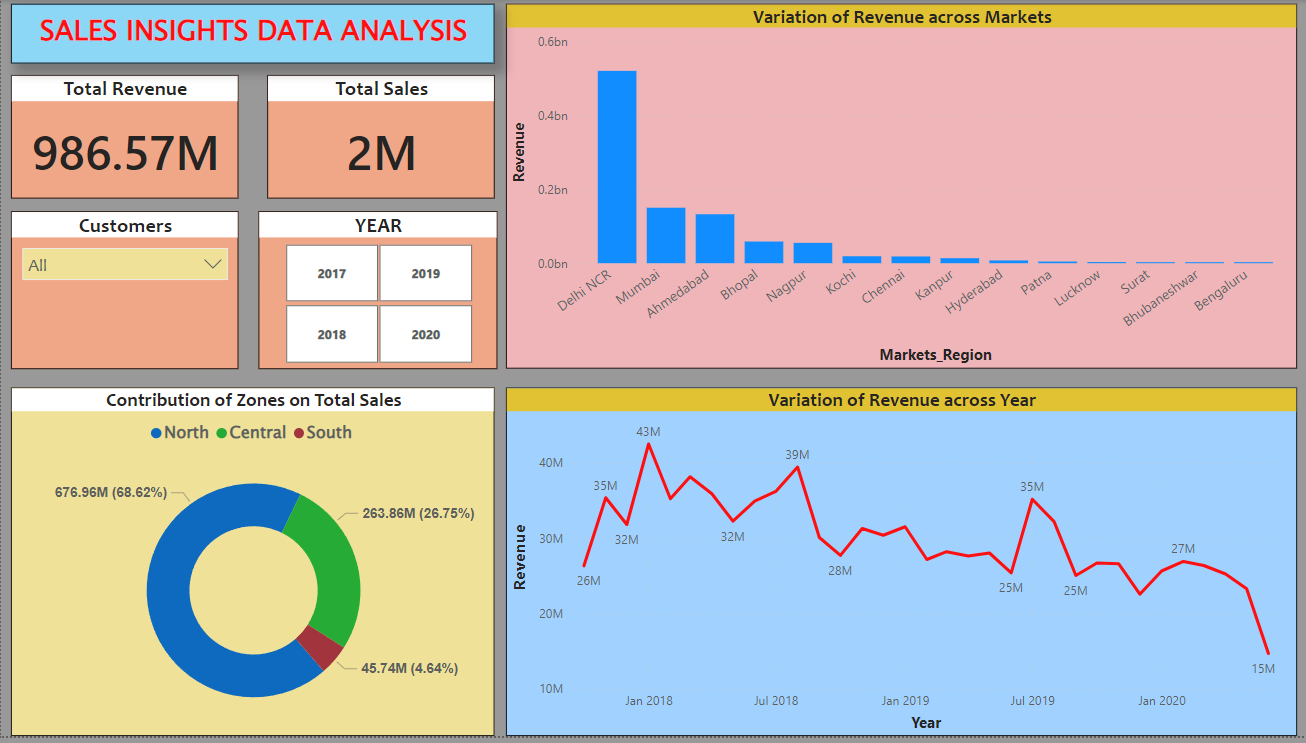

Layout of this report page (visuals, bound fields, positions):
{"tool":"powerbi","page":{"name":"Page 1","canvas":[1280,720],"ordinal":0},"visuals":[{"type":"card","title":"Total Revenue","fields":{"Values":["Base_Measure.Revenue"]},"box":[9.8,73.3,222.5,121],"z":0},{"type":"card","title":"Total Sales","fields":{"Values":["Base_Measure.Sales_Quantity"]},"box":[260.4,73.3,222.5,121],"z":1000},{"type":"slicer","title":"Customers","fields":{"Values":["sales customers.custmer_name"]},"box":[9.8,206.6,222.5,154],"z":2000},{"type":"slicer","title":"YEAR","fields":{"Values":["sales date.year"]},"box":[251.8,206.6,233.5,154],"z":3000},{"type":"columnChart","title":"Variation of Revenue  across Markets","fields":{"Category":["sales markets.markets_name"],"Y":["Base_Measure.Revenue"]},"box":[493.9,3.7,773.8,356.9],"z":4000},{"type":"donutChart","title":"Contribution of Zones on Total Sales","fields":{"Y":["Sum(sales transactions.sales_amount)"],"Category":["sales markets.zone"]},"box":[9.8,378.9,473.1,341.1],"z":5000},{"type":"lineChart","title":"Variation of Revenue across Year","fields":{"Y":["Base_Measure.Revenue"],"Category":["sales date.cy_date.Variation.Date Hierarchy.Year","sales date.cy_date.Variation.Date Hierarchy.Quarter","sales date.cy_date.Variation.Date Hierarchy.Month","sales date.cy_date.Variation.Date Hierarchy.Day"]},"box":[493.9,378.9,773.8,341.1],"z":6000},{"type":"textbox","box":[9.8,3.7,473.1,58.7],"z":9000}]}

Visuals, with their boxes in screenshot pixels (x1, y1, x2, y2), scaled from the page's 1280x720 canvas onto the 1306x743 screenshot:
"Total Revenue" card: {"left": 10, "top": 76, "right": 237, "bottom": 201}
"Total Sales" card: {"left": 266, "top": 76, "right": 493, "bottom": 201}
"Customers" slicer: {"left": 10, "top": 213, "right": 237, "bottom": 372}
"YEAR" slicer: {"left": 257, "top": 213, "right": 495, "bottom": 372}
"Variation of Revenue  across Markets" columnChart: {"left": 504, "top": 4, "right": 1293, "bottom": 372}
"Contribution of Zones on Total Sales" donutChart: {"left": 10, "top": 391, "right": 493, "bottom": 742}
"Variation of Revenue across Year" lineChart: {"left": 504, "top": 391, "right": 1293, "bottom": 742}
textbox: {"left": 10, "top": 4, "right": 493, "bottom": 64}
